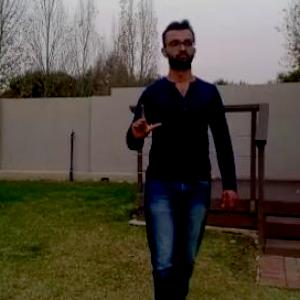land_hand: (127, 98, 164, 140)
